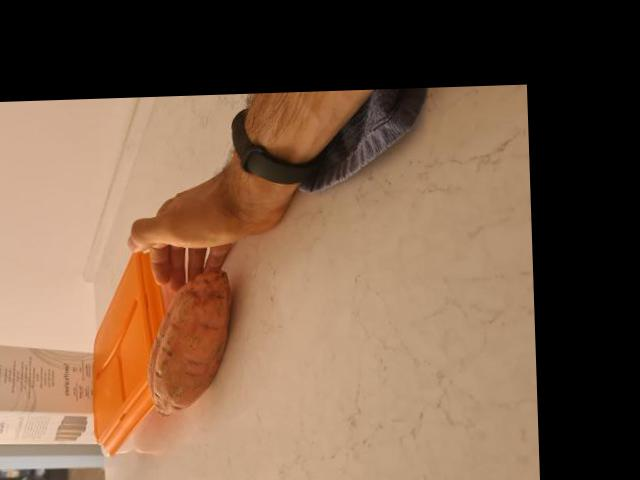sweet_potato: (149, 268, 234, 422)
